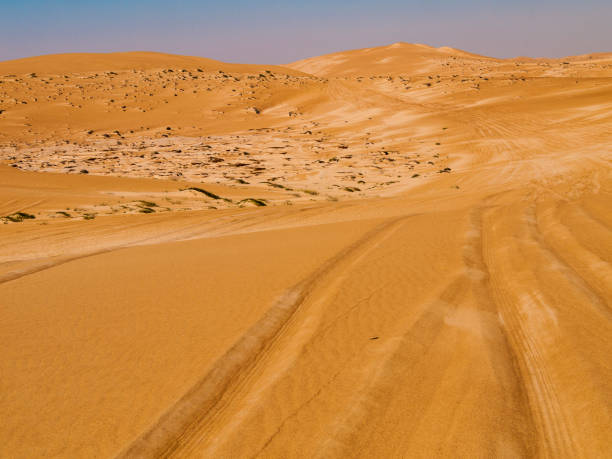vehicle_track: (118, 217, 404, 457), (470, 209, 584, 452), (329, 297, 434, 454), (532, 187, 611, 303)
